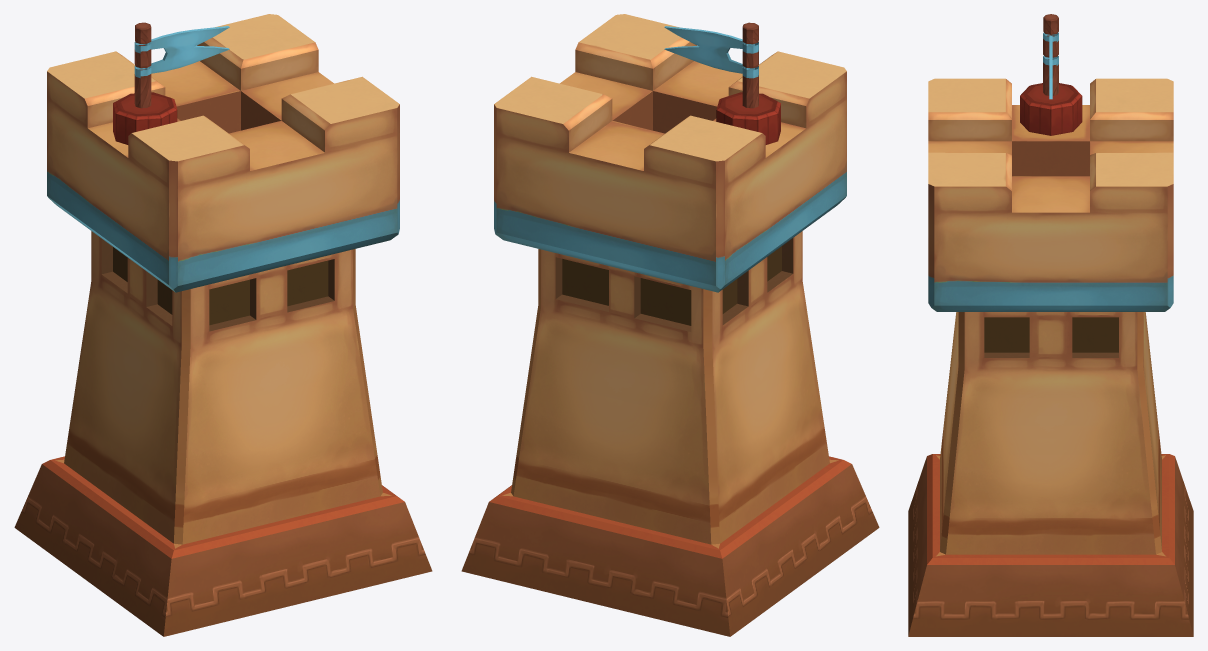
File: WatchTower@Model.fbx
3 views of the same model, side by side, from view 1: azimuth 30°, elevation 25°; view 2: azimuth 150°, elevation 25°; view 3: azimuth 270°, elevation 25° (orthographic). The views are drawn at different scales.
Visible parts, largest first — view 1: WatchTower, WatchTowerFlagBody, WatchTowerFlag; view 2: WatchTower, WatchTowerFlagBody, WatchTowerFlag; view 3: WatchTower, WatchTowerFlagBody, WatchTowerFlag.
Boxes of the visible parts, <box> form: WatchTower: <box>14,14,432,636</box>; WatchTowerFlagBody: <box>113,22,177,144</box>; WatchTowerFlag: <box>134,26,229,78</box>; WatchTower: <box>461,14,879,636</box>; WatchTowerFlagBody: <box>716,22,780,144</box>; WatchTowerFlag: <box>664,26,758,78</box>; WatchTower: <box>908,78,1193,636</box>; WatchTowerFlagBody: <box>1020,14,1082,135</box>; WatchTowerFlag: <box>1043,32,1058,99</box>.
Bounding box in the file's own units: 115 × 222 × 111.
